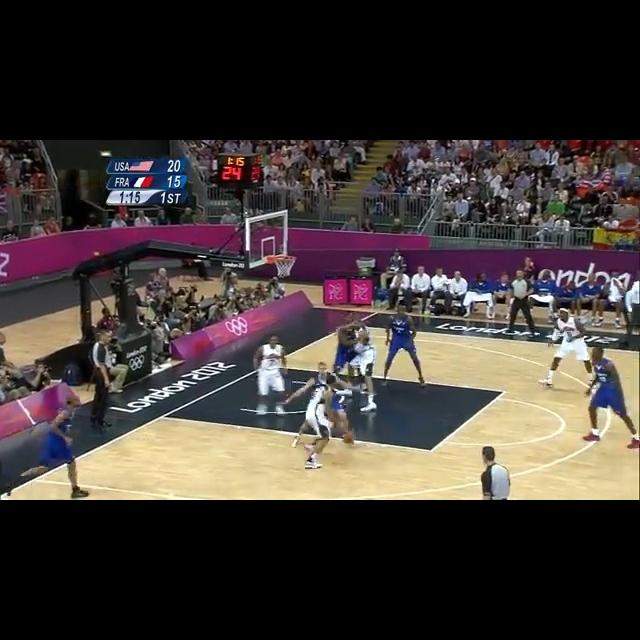basketball: (342, 432, 355, 443)
hoop: (269, 253, 298, 278)
person: (27, 397, 92, 500), (291, 358, 363, 443), (586, 344, 639, 451), (552, 302, 596, 396), (382, 305, 427, 387), (305, 377, 341, 469), (348, 322, 382, 415), (255, 334, 291, 418), (335, 316, 370, 393)
